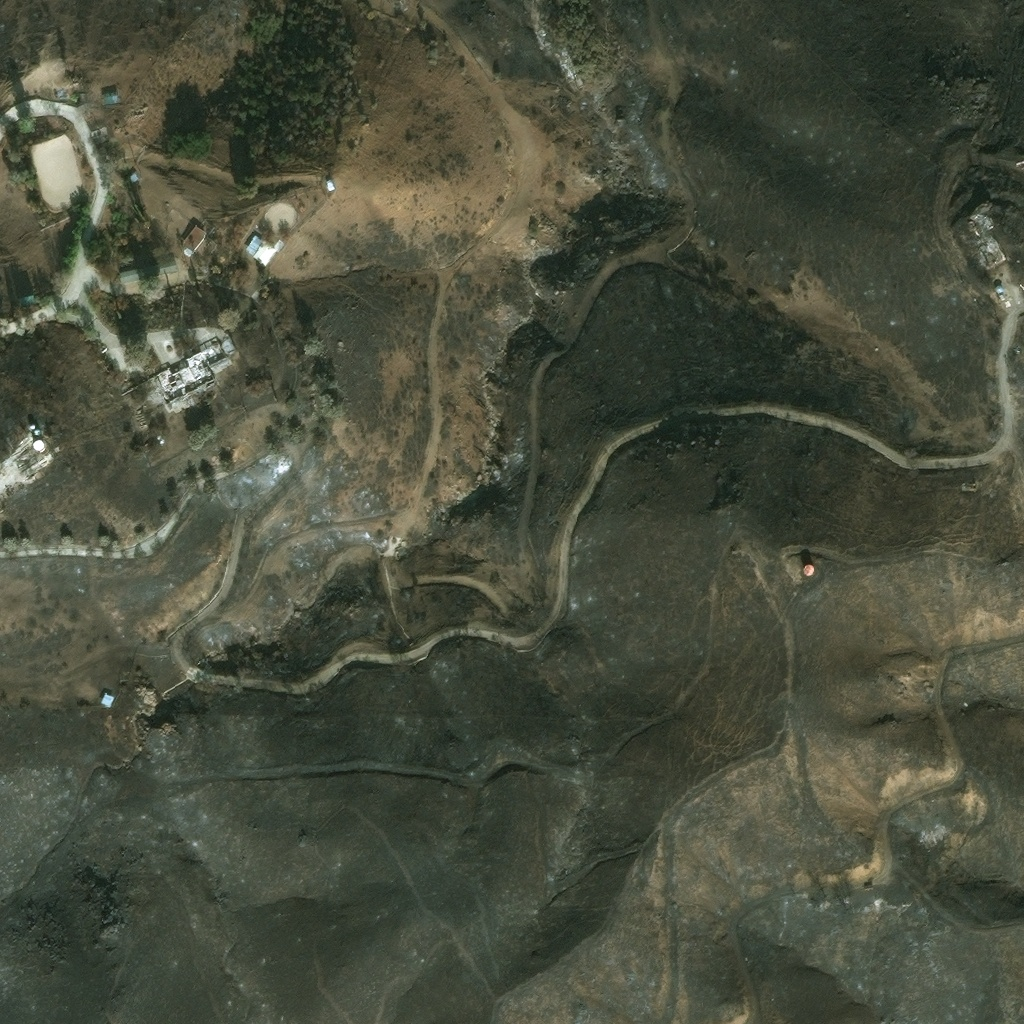0 no-damage: (120, 259, 176, 282), (182, 223, 207, 250), (245, 234, 263, 256), (18, 293, 35, 304), (100, 692, 112, 706), (128, 172, 139, 182), (995, 285, 1002, 292)
1 minor-damage: (253, 232, 283, 267), (802, 564, 815, 578), (103, 93, 118, 104), (182, 241, 193, 255), (324, 179, 335, 192), (33, 439, 43, 452), (65, 87, 73, 97), (97, 124, 106, 132), (28, 424, 36, 432), (101, 134, 109, 141), (74, 91, 81, 98), (35, 429, 40, 436), (157, 436, 162, 440)
3 destroyed: (154, 330, 238, 405), (975, 237, 1004, 266), (11, 450, 36, 473), (925, 824, 949, 847), (981, 215, 994, 229), (382, 539, 394, 554), (795, 891, 808, 901), (986, 487, 996, 498), (397, 0, 406, 10), (200, 258, 206, 269), (225, 258, 233, 266), (864, 884, 873, 890)
